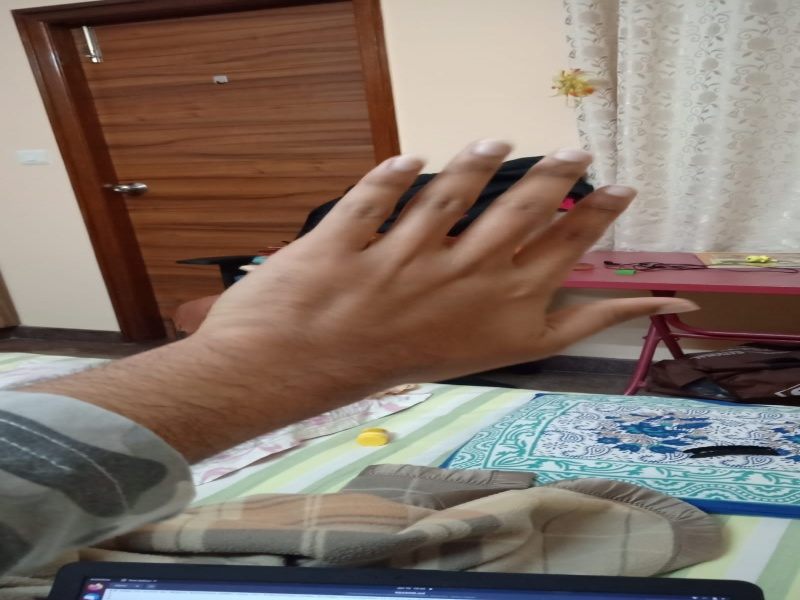Hand: (183, 126, 700, 449)
